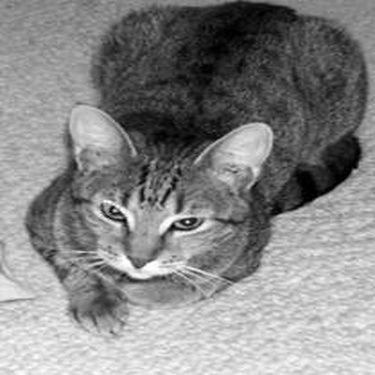cat: (12, 1, 371, 341)
